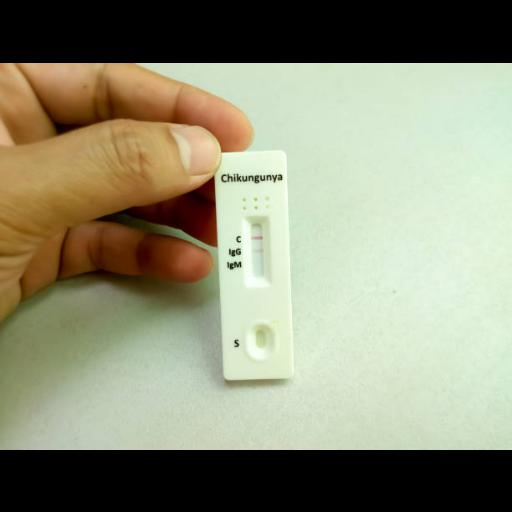Pos: (216, 150, 294, 376)
